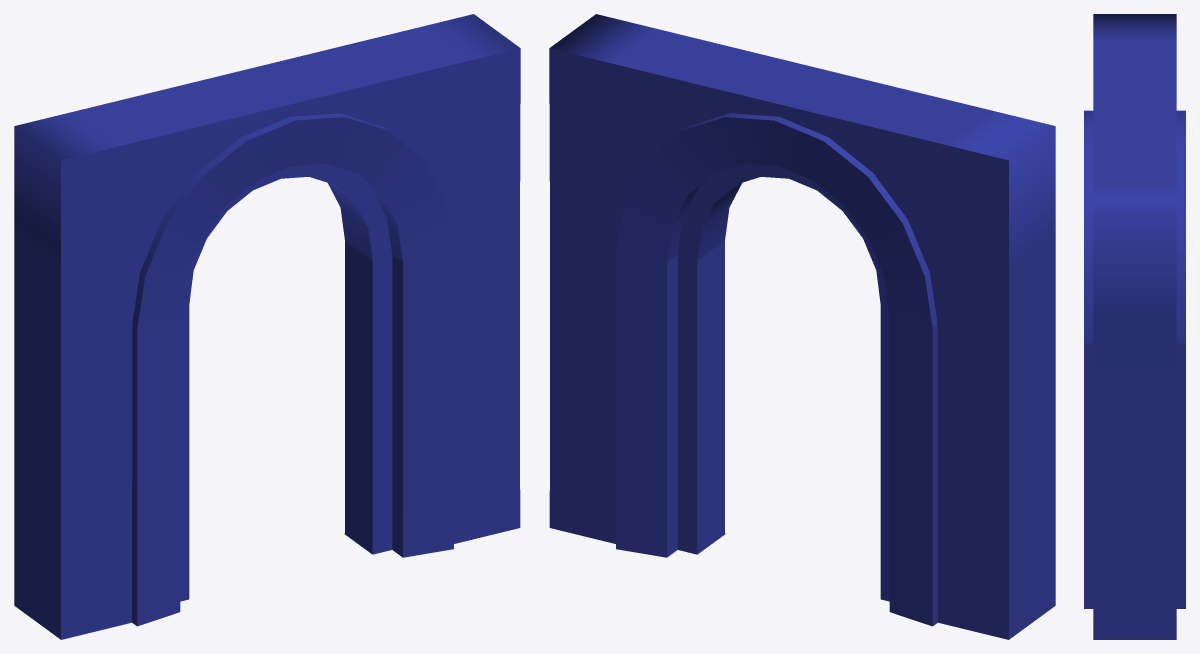
The model's file is door.fbx.
3 views of the same model, side by side, from view 1: azimuth 30°, elevation 25°; view 2: azimuth 150°, elevation 25°; view 3: azimuth 270°, elevation 25° (orthographic). The views are drawn at different scales.
Parts seen in each view (by area): view 1: porta; view 2: porta; view 3: porta.
Part boxes in pixels (x1,y1,x2,y2): porta: (14,14,520,639); porta: (549,14,1055,639); porta: (1084,14,1185,639).
Size of the model in its own units: 2 by 2 by 0.4316.
